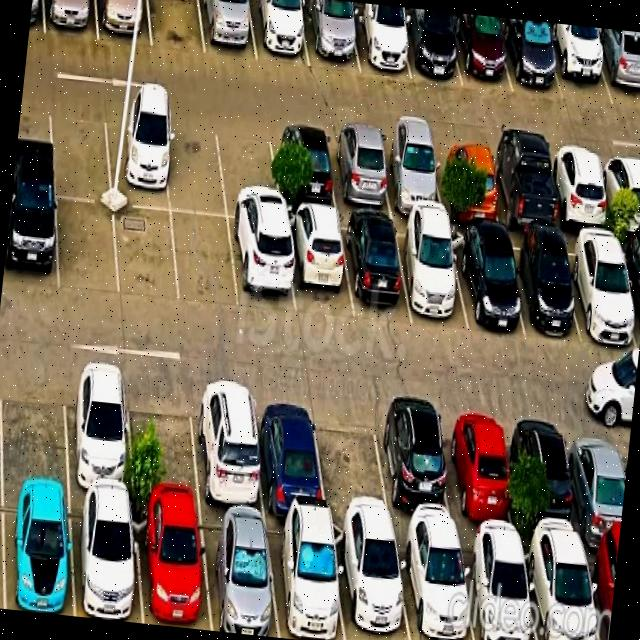empty: (313, 395, 391, 527), (127, 372, 200, 507), (0, 359, 68, 490), (215, 119, 281, 223), (171, 212, 238, 308), (163, 113, 226, 215), (114, 205, 178, 305), (49, 100, 111, 201), (56, 198, 119, 296), (148, 0, 205, 54)
occupied: (373, 401, 457, 533), (439, 405, 516, 540), (198, 510, 279, 637), (133, 503, 211, 630), (191, 379, 264, 514), (252, 386, 326, 518), (266, 517, 344, 640), (63, 363, 133, 499), (512, 411, 583, 544), (70, 494, 142, 623), (332, 523, 410, 640), (3, 489, 73, 616), (561, 234, 639, 345), (395, 532, 474, 640), (458, 535, 537, 640), (448, 229, 524, 337), (394, 221, 468, 331), (502, 233, 579, 337), (565, 417, 625, 547), (521, 541, 599, 640), (340, 215, 411, 321), (284, 210, 353, 319), (104, 106, 170, 210), (228, 220, 295, 315), (487, 145, 558, 232), (433, 140, 501, 225), (269, 125, 337, 210), (2, 188, 57, 291), (326, 129, 392, 213), (377, 134, 444, 216), (544, 24, 612, 104), (547, 149, 611, 232), (499, 17, 562, 98), (451, 12, 512, 91), (398, 11, 461, 85), (348, 5, 410, 78), (301, 0, 359, 70), (248, 0, 309, 66), (590, 28, 640, 107), (199, 0, 256, 61), (598, 152, 640, 233), (583, 545, 618, 640), (95, 0, 151, 46), (617, 238, 640, 345), (43, 0, 98, 40)
